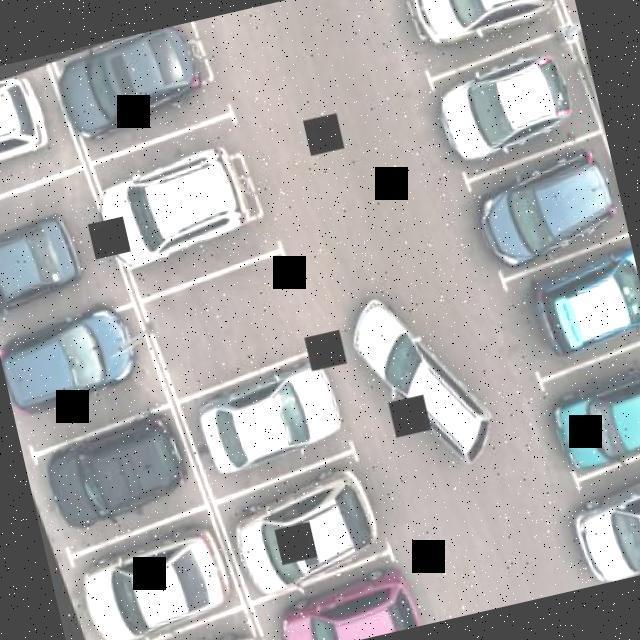car: (352, 264, 499, 494), (21, 386, 208, 554), (80, 125, 270, 280), (449, 125, 632, 284), (182, 341, 364, 494), (0, 275, 160, 447), (218, 465, 400, 613), (416, 25, 594, 176), (61, 509, 255, 640), (50, 20, 216, 146), (514, 238, 640, 380), (532, 344, 640, 492), (0, 188, 103, 339), (270, 557, 435, 640), (553, 446, 640, 588), (0, 64, 75, 204), (398, 0, 566, 60), (112, 620, 268, 640)
free: (144, 247, 324, 393)
